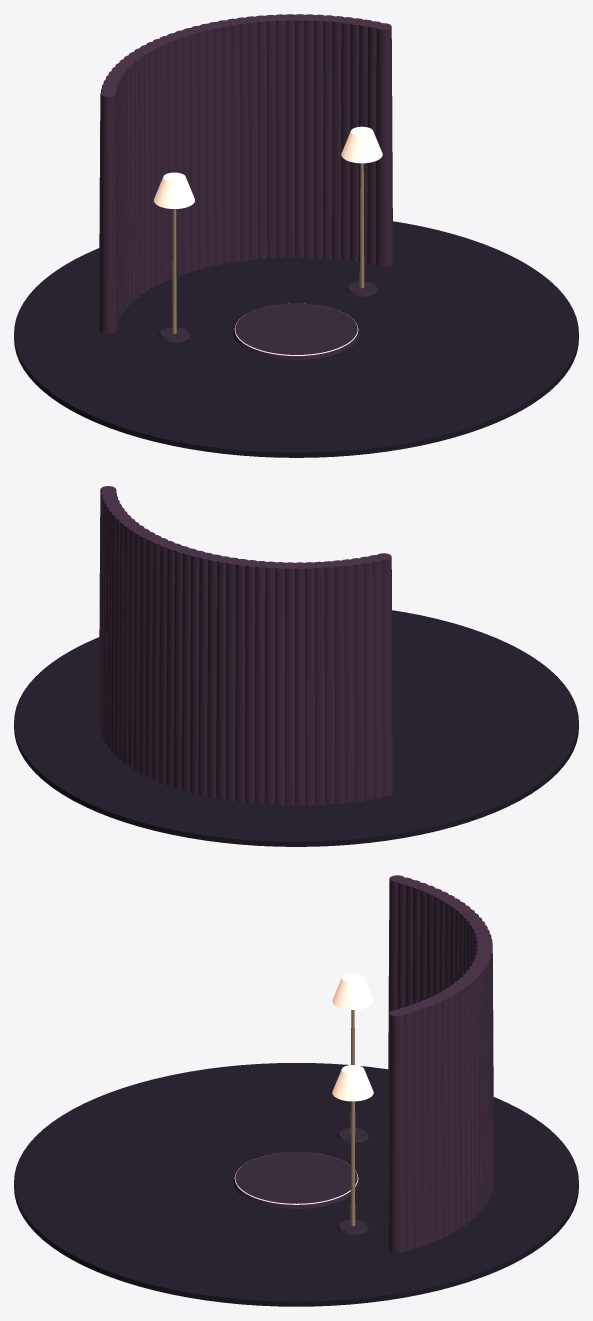
Rendered from room.glb.
3 views of the same model, one above another, from view 1: azimuth 30°, elevation 25°; view 2: azimuth 150°, elevation 25°; view 3: azimuth 270°, elevation 25° (orthographic).
Parts seen in each view (by area): view 1: Floor, DisplayPlinth, CurtainFold39, CurtainFold0, CurtainFold10, CurtainFold9, CurtainFold8, CurtainFold11, CurtainFold5, CurtainFold6, CurtainFold7, CurtainFold12 (+31 smaller); view 2: Floor, CurtainFold35, CurtainFold24, CurtainFold32, CurtainFold34, CurtainFold33, CurtainFold39, CurtainFold36, CurtainFold23, CurtainFold25, CurtainFold26, CurtainFold28 (+28 smaller); view 3: Floor, DisplayPlinth, CurtainFold0, CurtainFold1, CurtainFold2, CurtainFold3, CurtainFold4, CurtainFold5, CurtainFold6, CurtainFold7, CurtainFold8, CurtainFold9 (+20 smaller).
Part boxes in pixels (bbox=[...]): Floor: bbox=[14, 221, 578, 457]; DisplayPlinth: bbox=[233, 303, 359, 359]; CurtainFold39: bbox=[99, 91, 117, 333]; CurtainFold0: bbox=[375, 23, 392, 266]; CurtainFold10: bbox=[282, 14, 297, 257]; CurtainFold9: bbox=[292, 14, 307, 257]; CurtainFold8: bbox=[301, 14, 315, 257]; CurtainFold11: bbox=[272, 14, 286, 257]; CurtainFold5: bbox=[330, 16, 346, 259]; CurtainFold6: bbox=[321, 15, 335, 258]; CurtainFold7: bbox=[311, 14, 326, 258]; CurtainFold12: bbox=[263, 14, 277, 258]; Floor: bbox=[14, 610, 578, 846]; CurtainFold35: bbox=[341, 559, 355, 802]; CurtainFold24: bbox=[235, 559, 249, 802]; CurtainFold32: bbox=[311, 561, 326, 805]; CurtainFold34: bbox=[331, 560, 346, 803]; CurtainFold33: bbox=[321, 561, 336, 804]; CurtainFold39: bbox=[376, 553, 392, 796]; CurtainFold36: bbox=[349, 558, 364, 801]; CurtainFold23: bbox=[225, 557, 240, 801]; CurtainFold25: bbox=[244, 560, 259, 803]; CurtainFold26: bbox=[253, 561, 268, 804]; CurtainFold28: bbox=[273, 562, 287, 805]; Floor: bbox=[14, 1063, 578, 1306]; DisplayPlinth: bbox=[233, 1152, 359, 1208]; CurtainFold0: bbox=[388, 1009, 405, 1253]; CurtainFold1: bbox=[398, 1007, 413, 1250]; CurtainFold2: bbox=[406, 1005, 421, 1248]; CurtainFold3: bbox=[412, 1002, 429, 1245]; CurtainFold4: bbox=[420, 999, 436, 1242]; CurtainFold5: bbox=[427, 996, 443, 1239]; CurtainFold6: bbox=[433, 993, 450, 1236]; CurtainFold7: bbox=[439, 990, 456, 1233]; CurtainFold8: bbox=[444, 987, 461, 1230]; CurtainFold9: bbox=[450, 983, 467, 1226].
Size of the model in its own units: 6 by 2.83 by 6.
